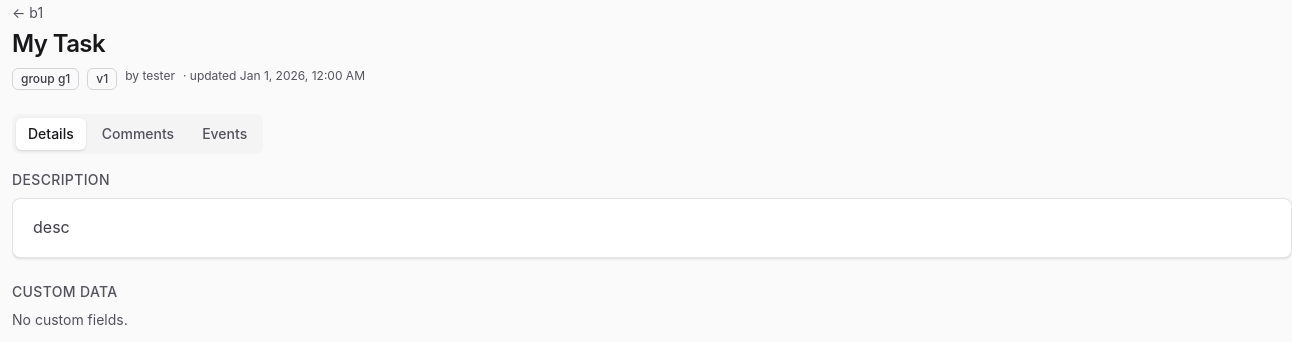
Test case: TaskDetail › renders a comment body through <Markdown> (script is sanitized away, bold survives)
Expected: the heading "My Task" is shown, 12,28 -> 105,60
Click the tab "Comments" at (138, 134), box 90,118 -> 186,150
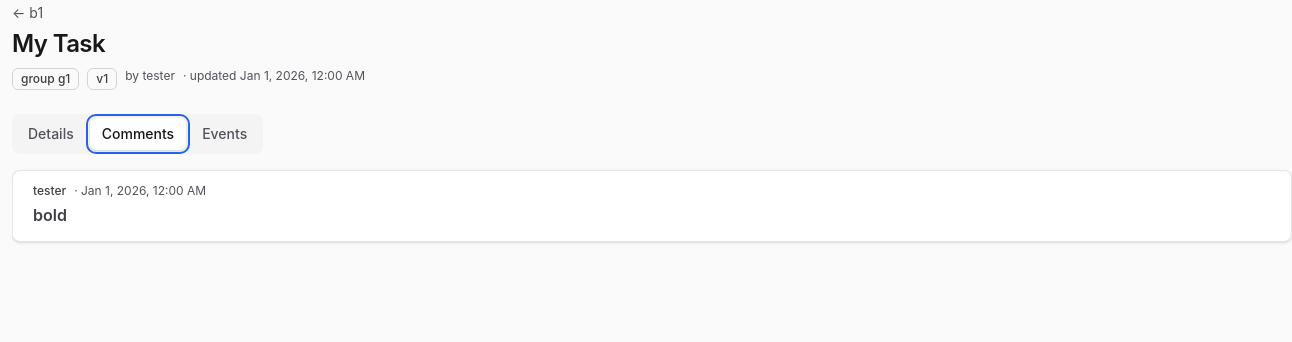
Expected: the text "bold" is shown, 33,205 -> 67,225
